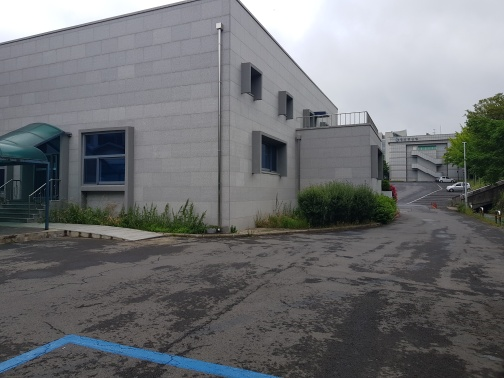College of Social Sciences: (4, 9, 383, 223)
